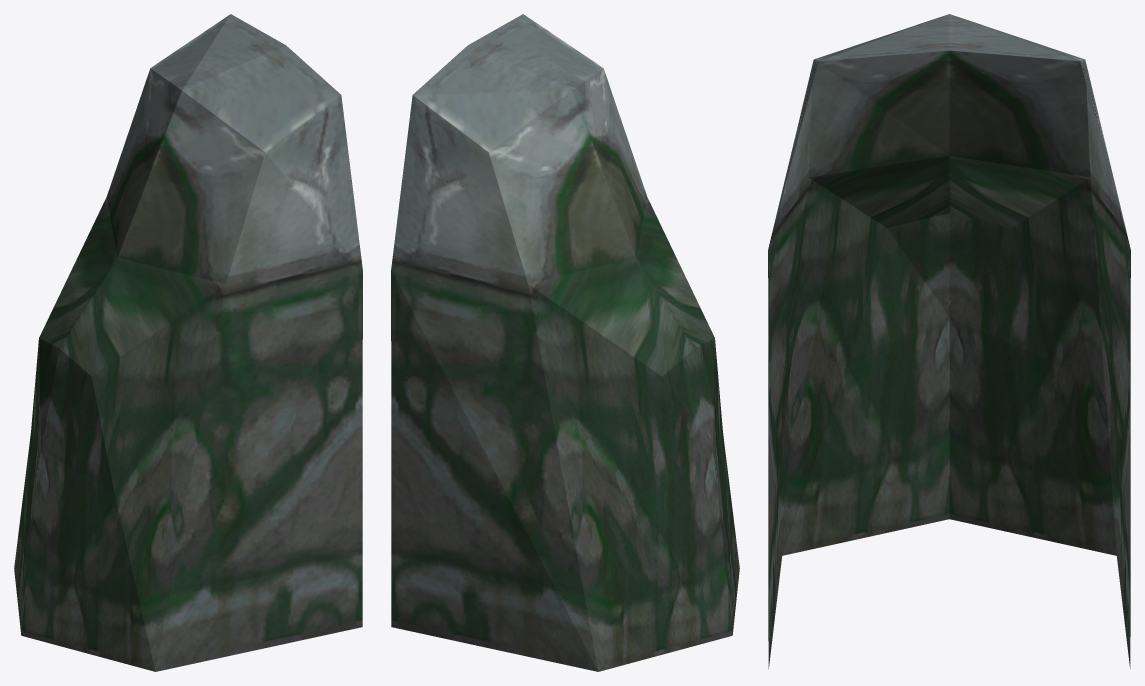
Rendered from stemple_wall_transition_03.fbx.
The picture shows the model from 3 angles, left to right: view 1: azimuth 30°, elevation 25°; view 2: azimuth 150°, elevation 25°; view 3: azimuth 270°, elevation 25°; orthographic projection. The views are drawn at different scales.
Parts seen in each view (by area): view 1: obj0.061; view 2: obj0.061; view 3: obj0.061.
Part boxes in pixels (bbox=[...]): obj0.061: bbox=[14, 14, 362, 671]; obj0.061: bbox=[391, 14, 739, 671]; obj0.061: bbox=[768, 14, 1130, 668].
Size of the model in its own units: 0.8302 by 1.57 by 0.8328.
